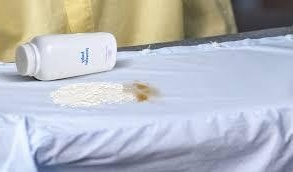oil: (132, 81, 162, 107)
